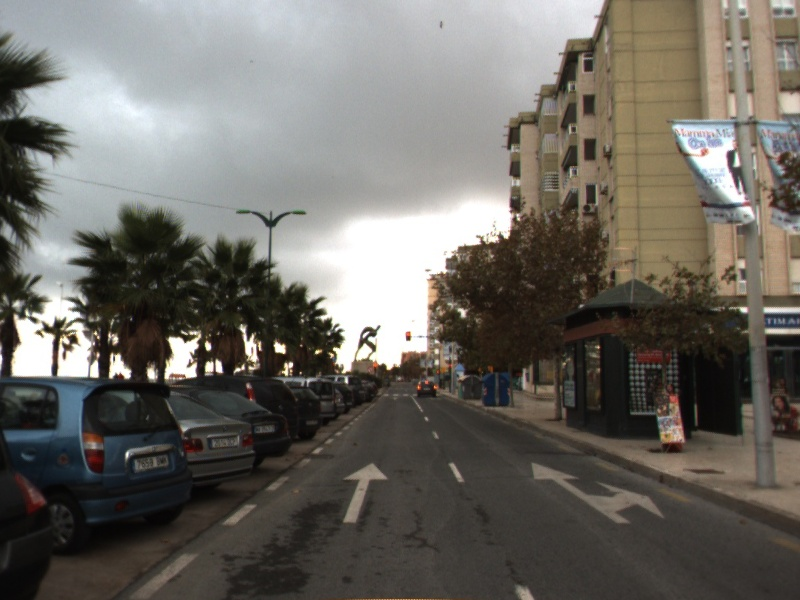STRAIGHT: (341, 461, 391, 525)
STRAIGHT_RIGHT: (530, 460, 667, 525)
